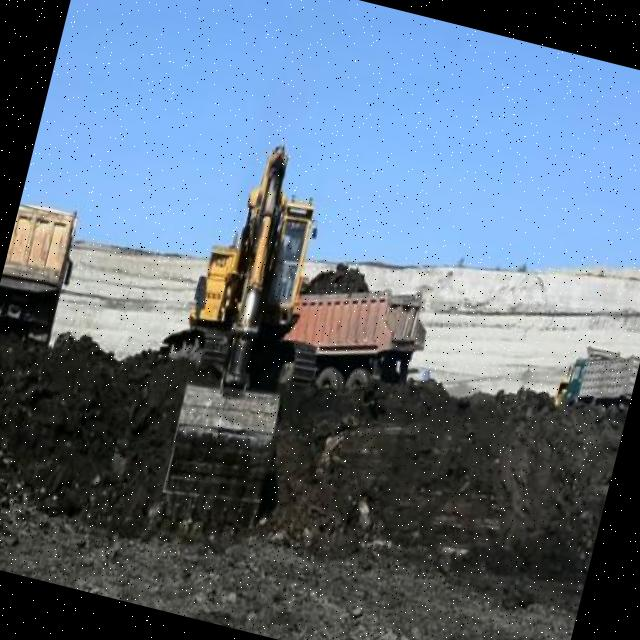Dump Truck: (279, 262, 437, 410), (0, 197, 84, 340), (558, 337, 640, 411)
Excavator: (125, 127, 348, 532)
